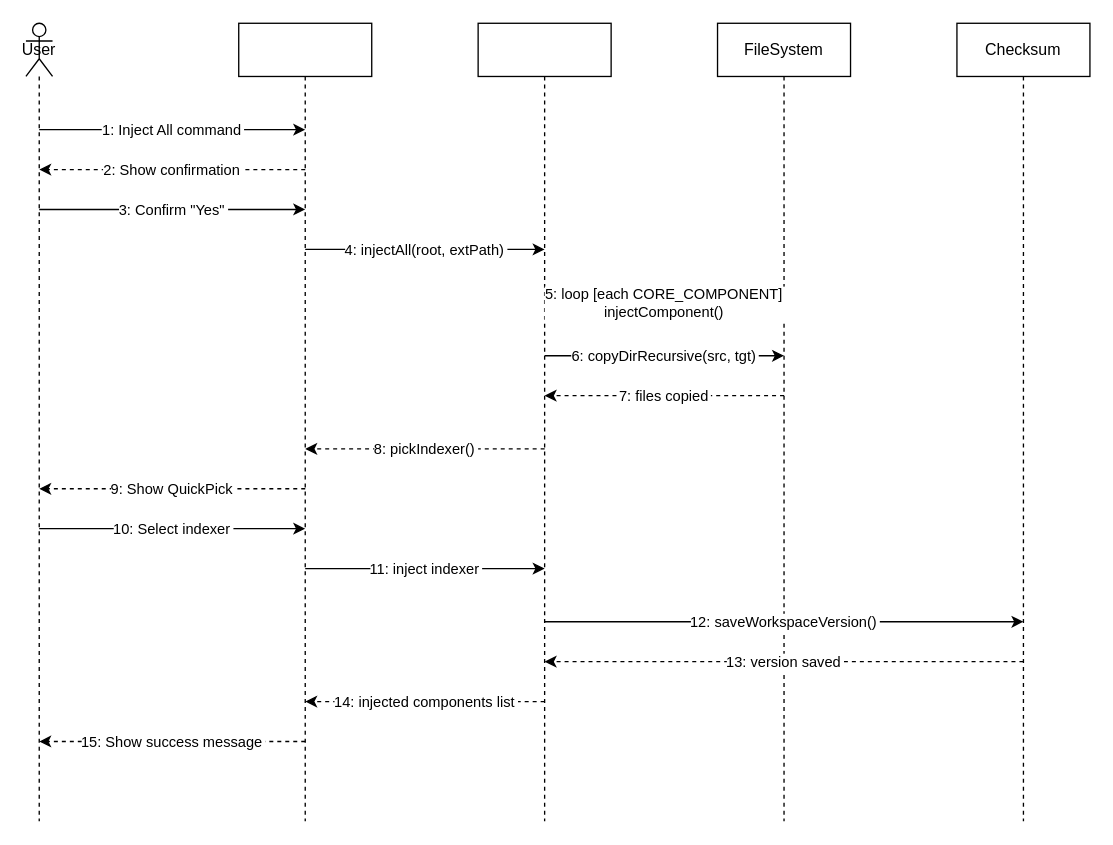
The diagram is 1113 pixels wide and 845 high, and some of its shapes have lost their labels. Here are the shapes that lost their labels. From the top down, the box of each, then its label:
(237, 22, 372, 821): Extension
(477, 22, 611, 821): Injector
